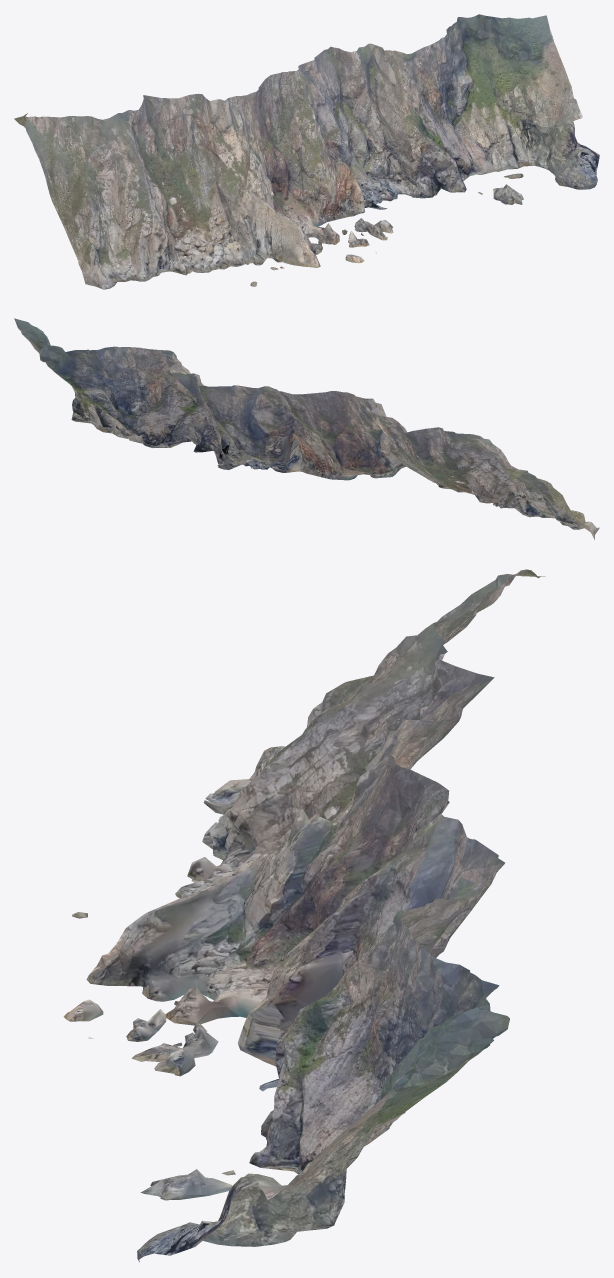
Rendered from acantilado_n7.glb.
The picture shows the model from 3 angles, top to bottom: view 1: azimuth 30°, elevation 25°; view 2: azimuth 150°, elevation 25°; view 3: azimuth 270°, elevation 25°; orthographic projection. The views are drawn at different scales.
Parts seen in each view (by area): view 1: norm; view 2: norm; view 3: norm.
Part boxes in pixels (x1=…): norm: x1=14, y1=14, x2=599, y2=289; norm: x1=14, y1=318, x2=599, y2=539; norm: x1=63, y1=569, x2=545, y2=1262.
Size of the model in its own units: 30 by 6.61 by 12.59.
1 material, 1 textured.
